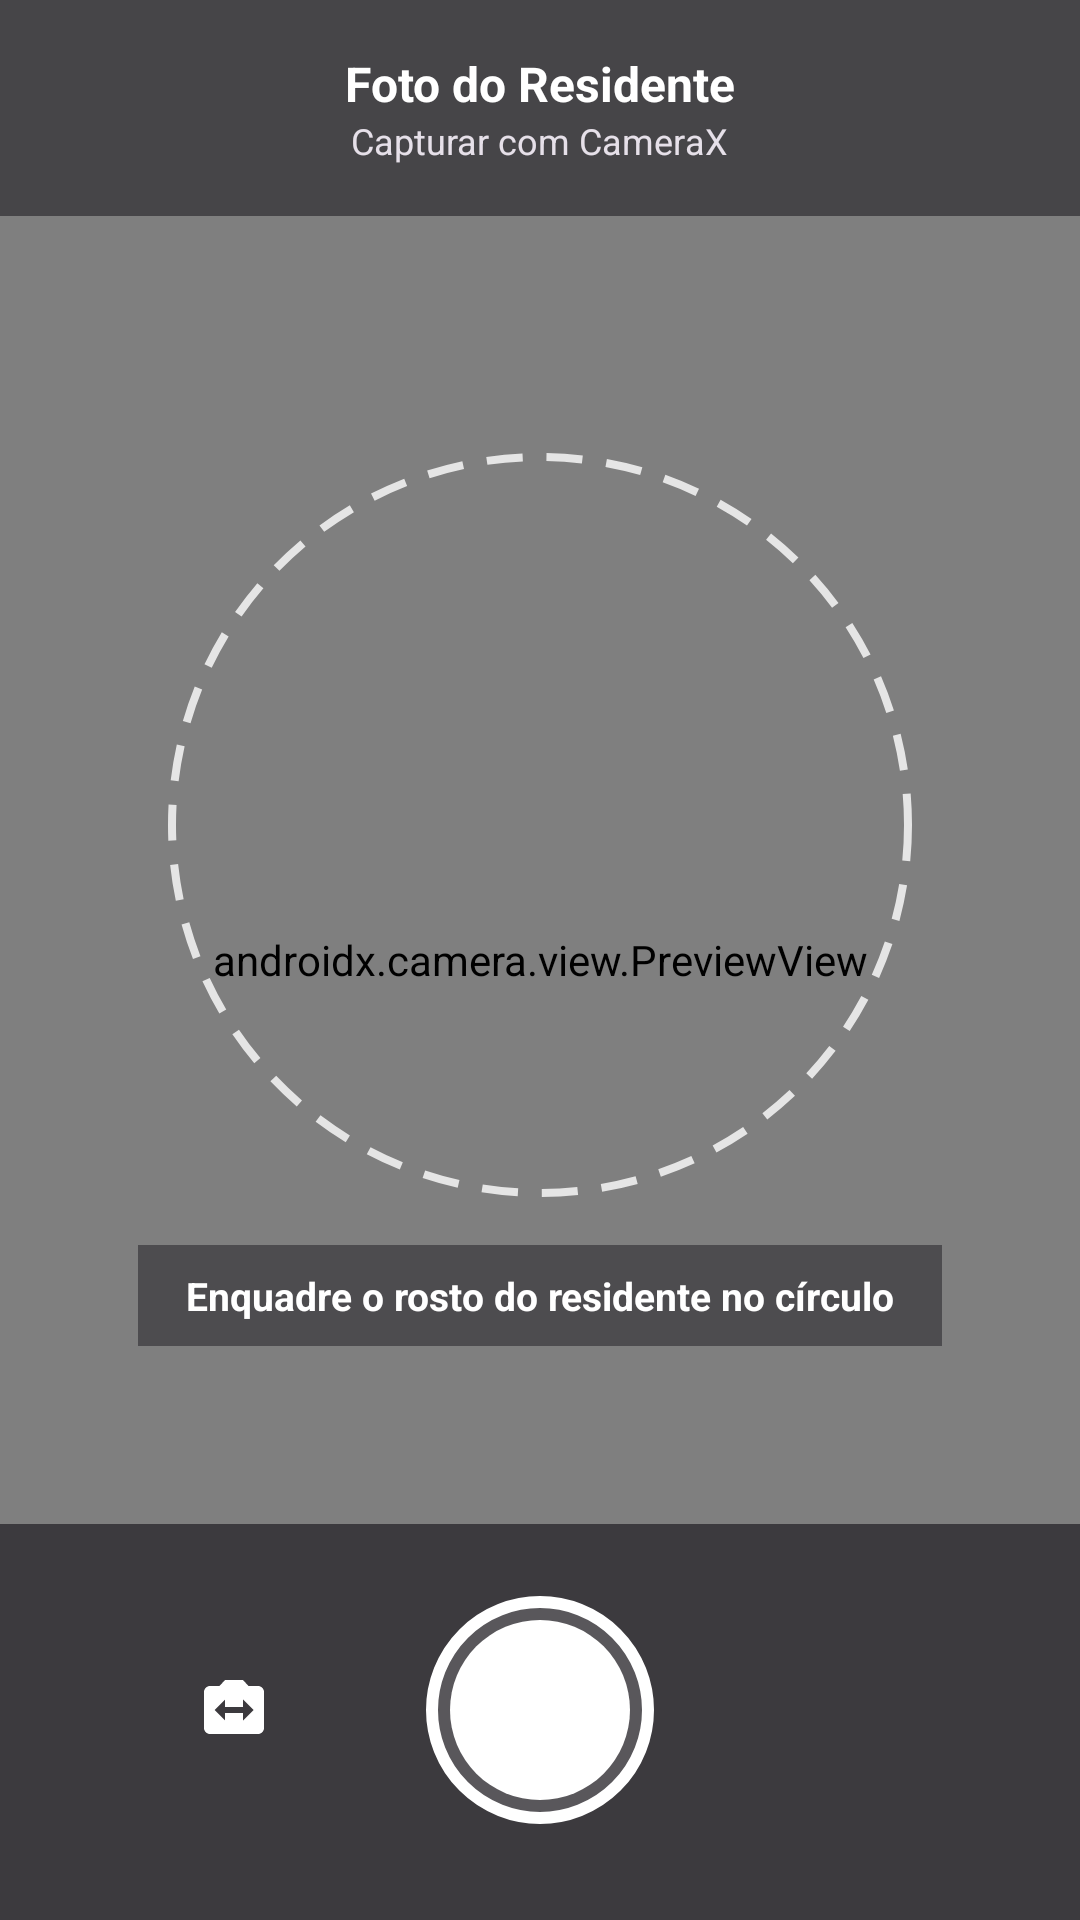

Named icons in this screenshot (1080 x 1920) and their centers, point (x, y):
Alternar entre câmera frontal e traseira: point (234, 1707)
